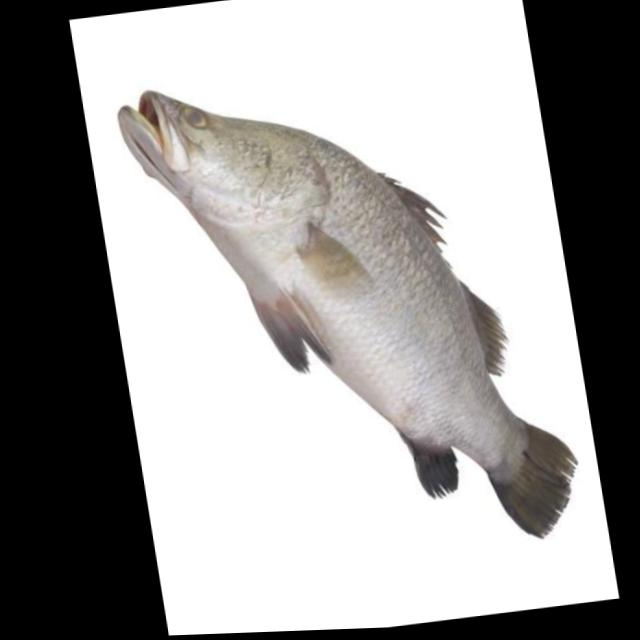Seabass: (108, 40, 593, 581)
